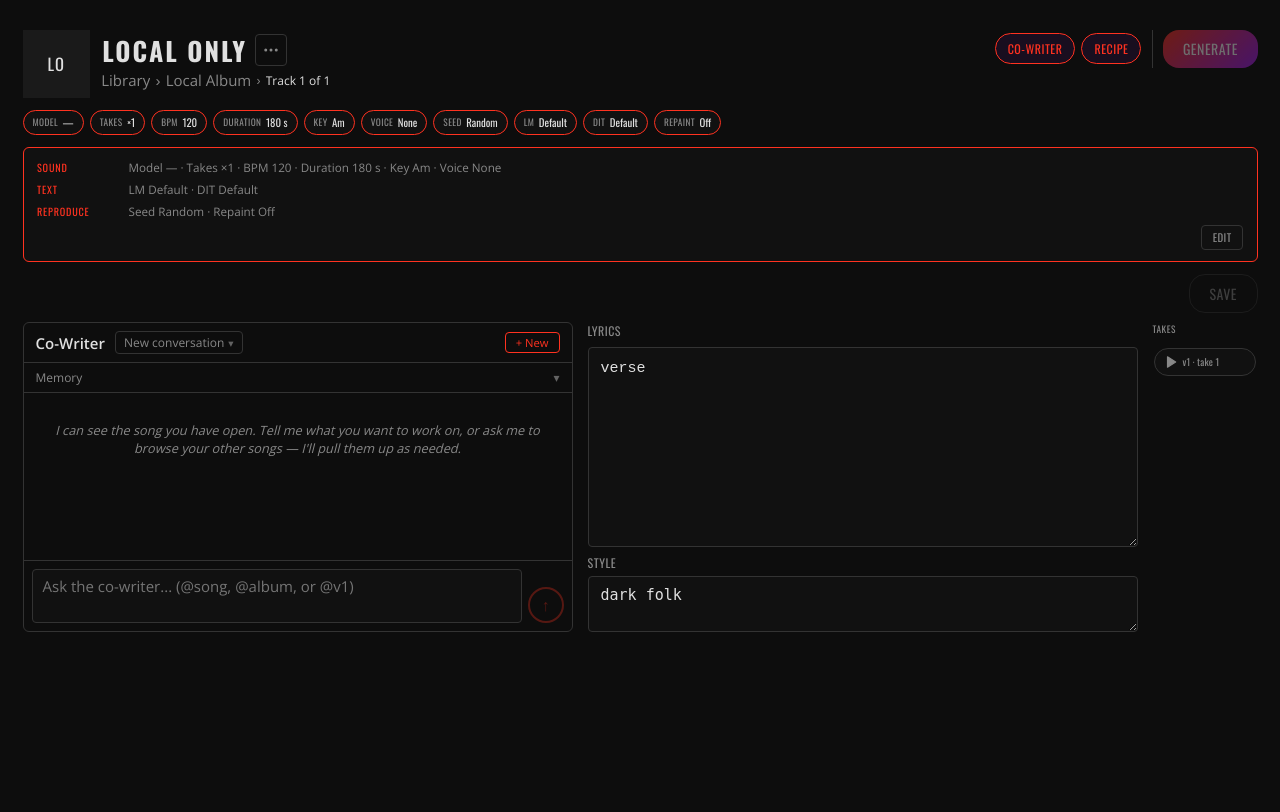
Test: SongDetailView Co-Writer and Recipe stacked (both open) › shows the condensed EditorStacked summary instead of the full panel, keeping the chat visible; Edit reveals the full panel
The width and height of the screenshot is (1280, 812).
Expected: the element with class "editor-stacked" is shown, [22,147,1258,262]
Expected: the element with class "cowriter-chat" is shown, [22,322,572,632]
Click the button with class "stacked-edit".
click(1222, 237)  # box [1201,224,1243,250]
(page scrolled)
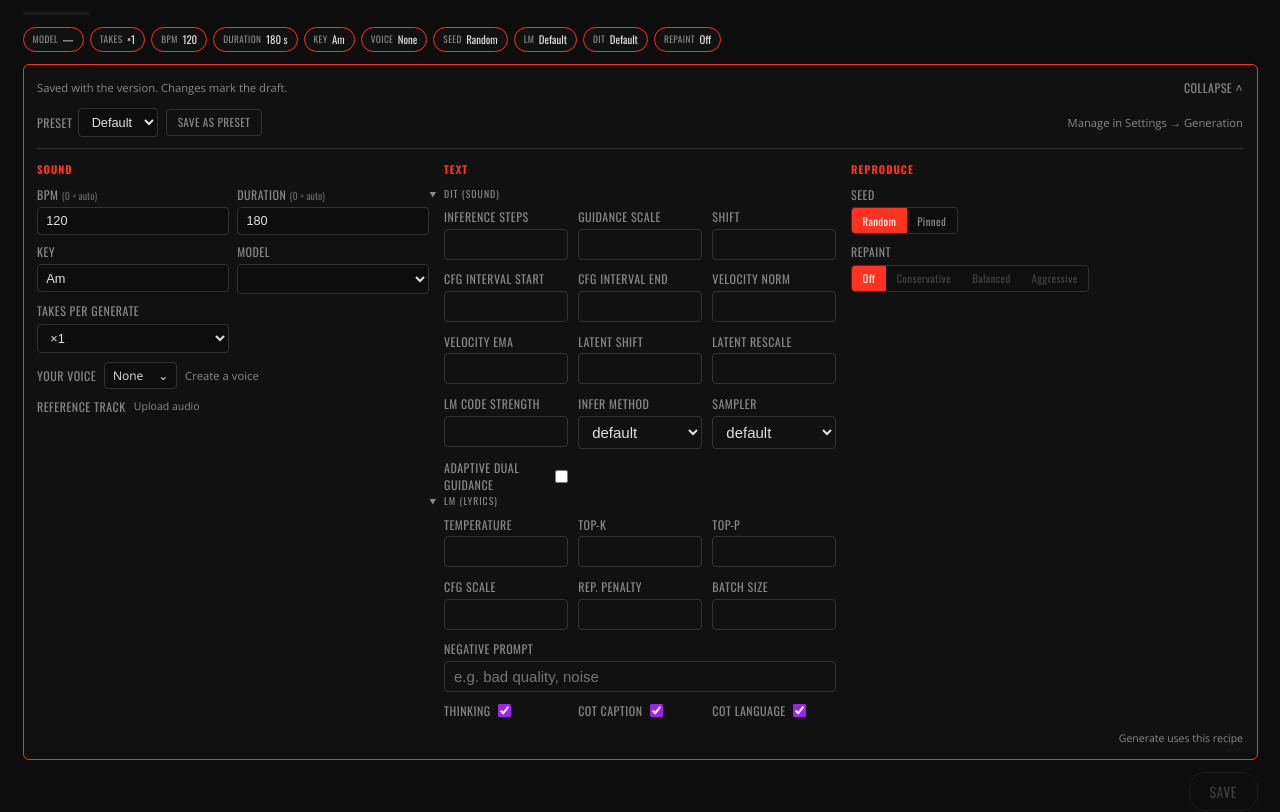
Now the element with class "recipe-panel" is shown
Now the element with class "editor-stacked" is gone
